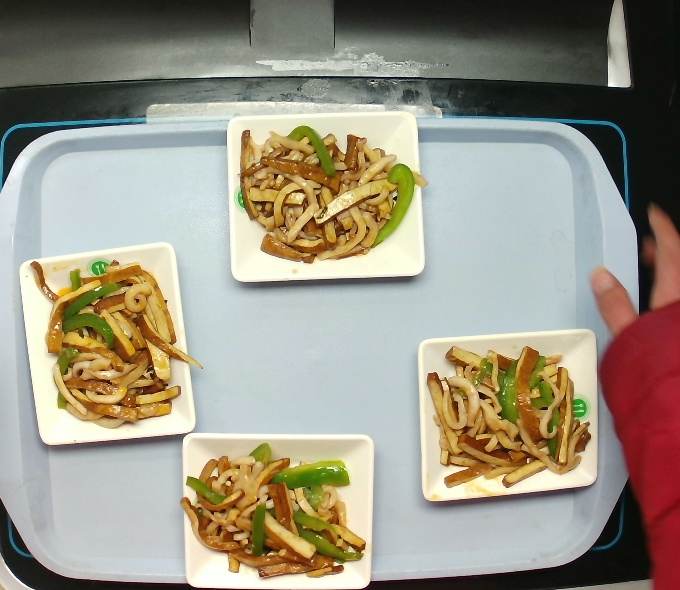wcq-XiangGanYouYu: (175, 430, 375, 586), (232, 111, 414, 273), (34, 254, 193, 436), (424, 338, 590, 492)
